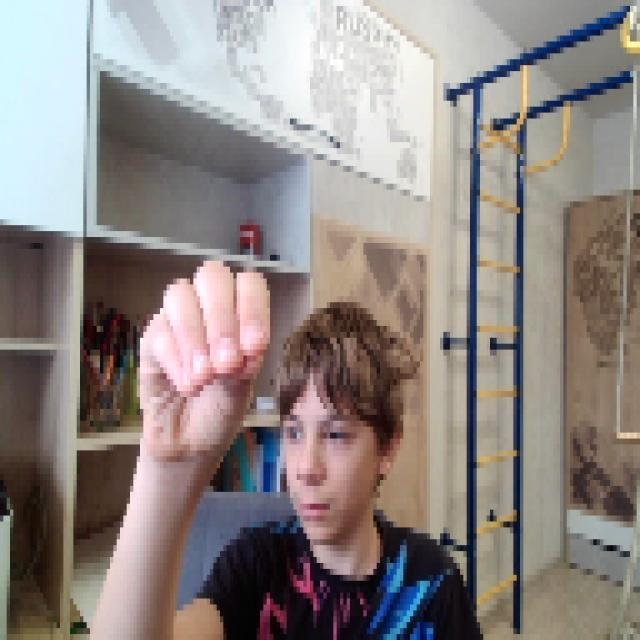left_click: (137, 255, 270, 456)
